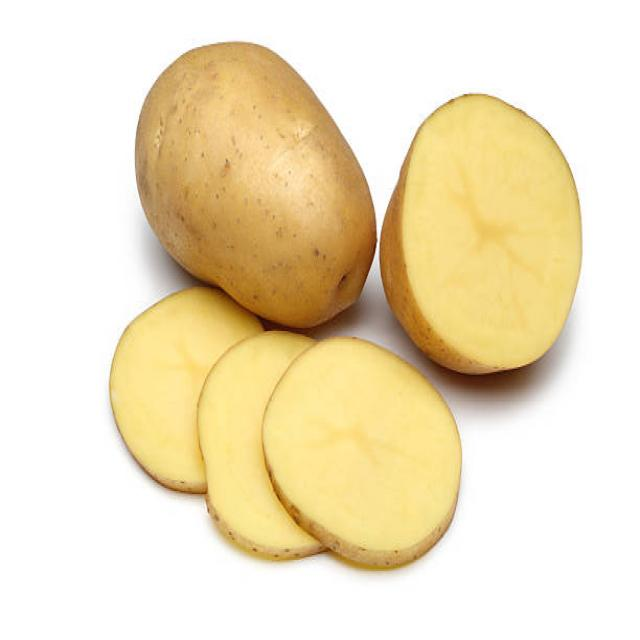Potato: (131, 31, 371, 316), (379, 85, 585, 384), (268, 329, 461, 572)
